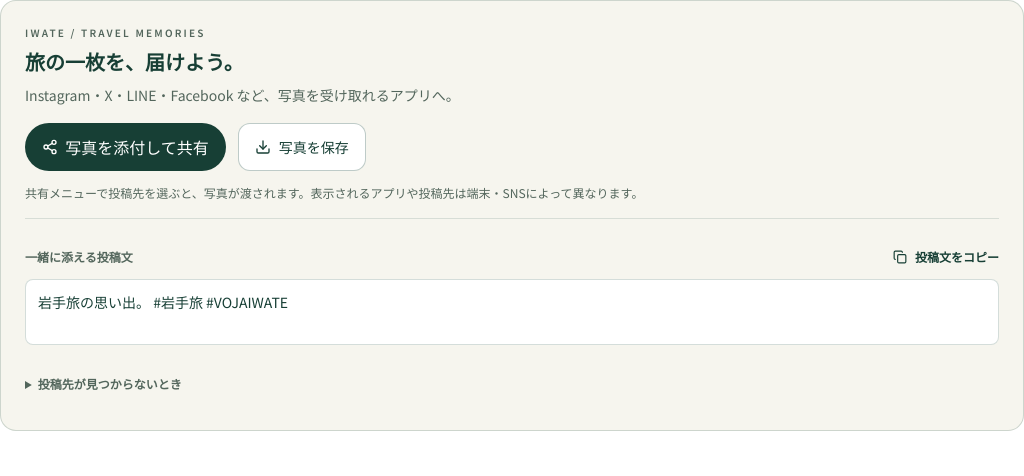
PhotoSharePanel › shows actionable feedback for NotAllowedError
Click the button "写真を添付して共有" at coordinates (125, 147), box [25,123,226,171]
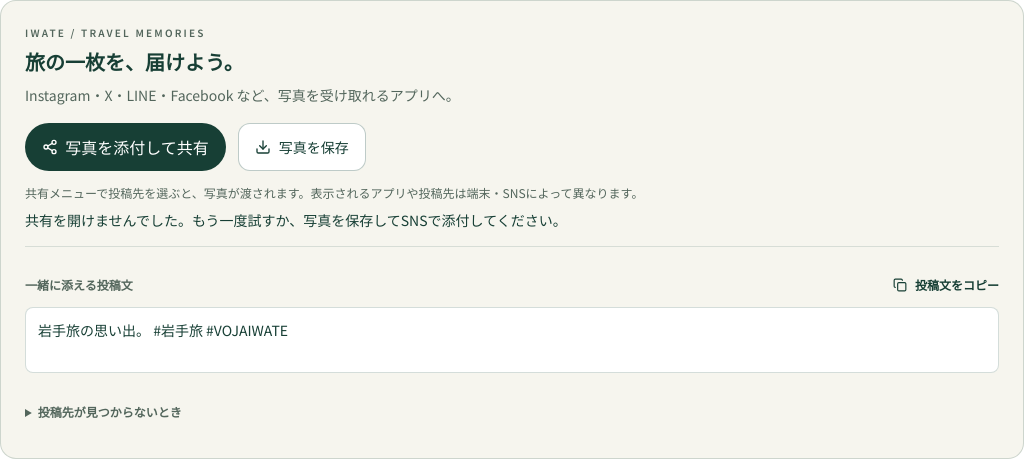
Expected: the link "写真を保存" is shown, [238,123,366,171]
Now the text "共有を開けませんでした。もう一度試すか、写真を保存してSNSで添付してください。" is shown, box [25,210,567,230]
